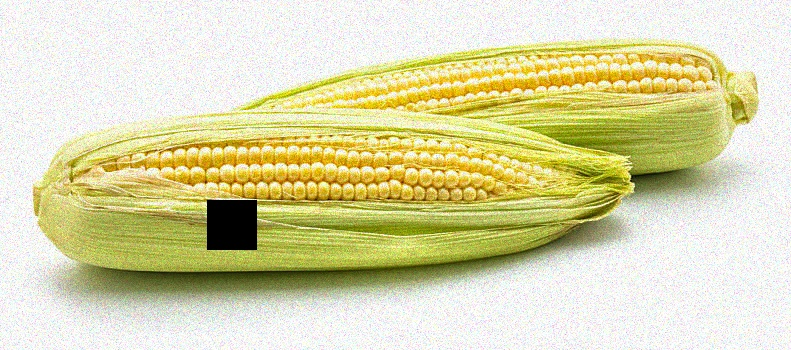corn: (26, 111, 637, 268), (212, 38, 758, 174)
